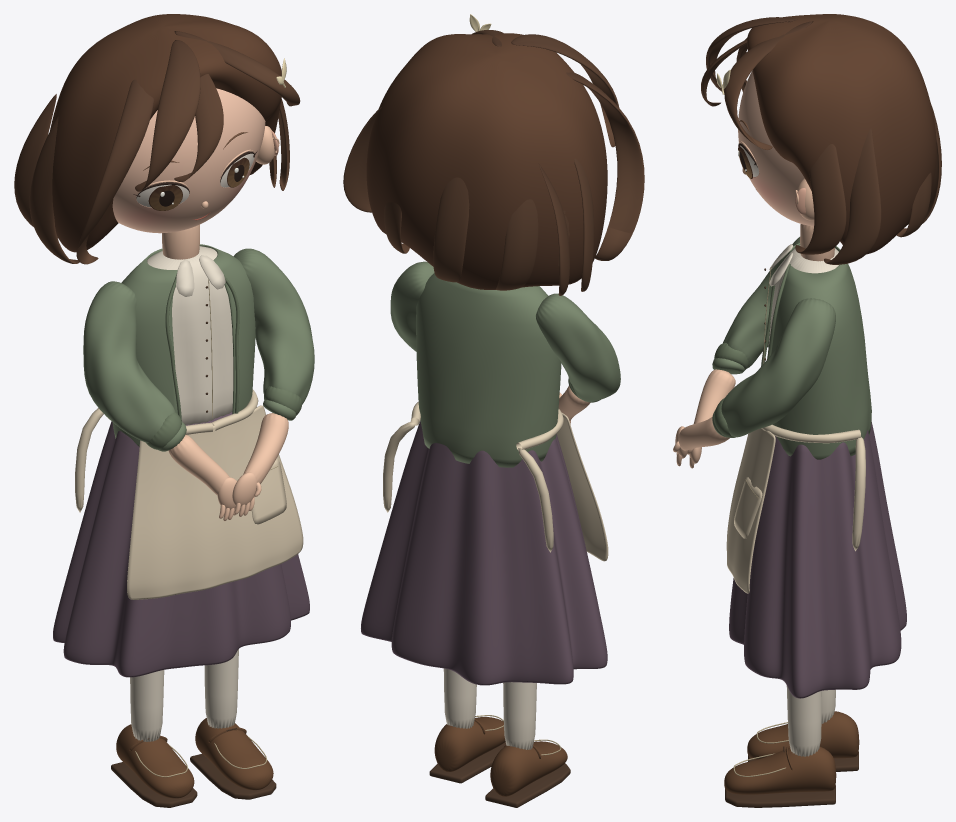
Rendered from misaki-model.glb.
3 views of the same model, side by side, from view 1: azimuth 30°, elevation 25°; view 2: azimuth 150°, elevation 25°; view 3: azimuth 270°, elevation 25° (orthographic). The views are drawn at different scales.
Visible parts, largest first — view 1: target-proof/clothes, target-proof/hair, target-proof/skin, target-proof/shoes, target-proof/eyes; view 2: target-proof/clothes, target-proof/hair, target-proof/shoes, target-proof/skin; view 3: target-proof/clothes, target-proof/hair, target-proof/shoes, target-proof/skin, target-proof/eyes.
Boxes of the visible parts, x1,y1,x2,y2 form: target-proof/clothes: (53,244,314,741); target-proof/hair: (14,14,300,264); target-proof/skin: (112,88,288,521); target-proof/shoes: (111,718,276,807); target-proof/eyes: (133,132,257,220); target-proof/clothes: (361,261,620,749); target-proof/hair: (343,30,644,295); target-proof/shoes: (429,715,570,807); target-proof/skin: (558,386,590,424); target-proof/clothes: (712,237,906,756); target-proof/hair: (701,14,941,264); target-proof/shoes: (724,711,859,807); target-proof/skin: (673,71,834,468); target-proof/eyes: (738,120,759,178).
Bounding box in the file's own units: 0.5381 × 1.55 × 0.5021.
